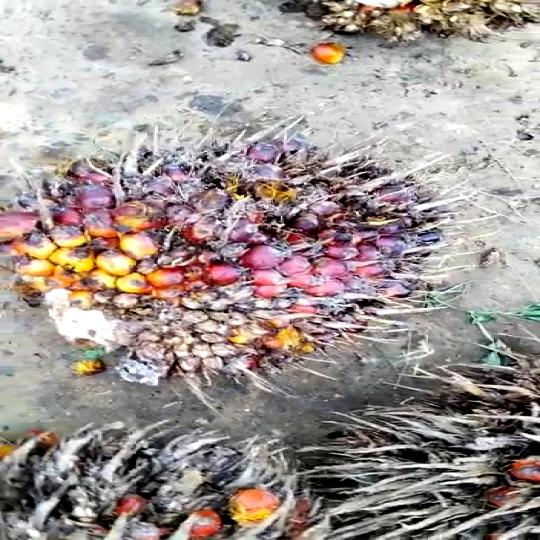masak: (0, 123, 440, 415)
